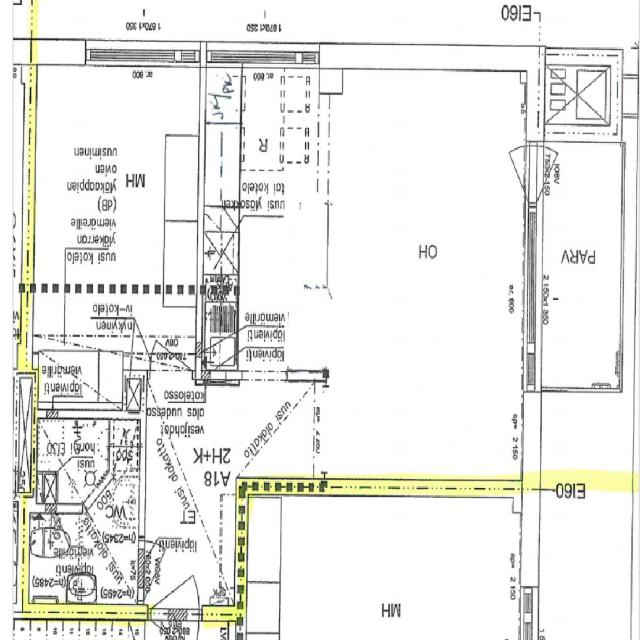door: (150, 533, 200, 619), (522, 146, 585, 205), (480, 146, 542, 205), (150, 311, 192, 378), (140, 540, 187, 596)
